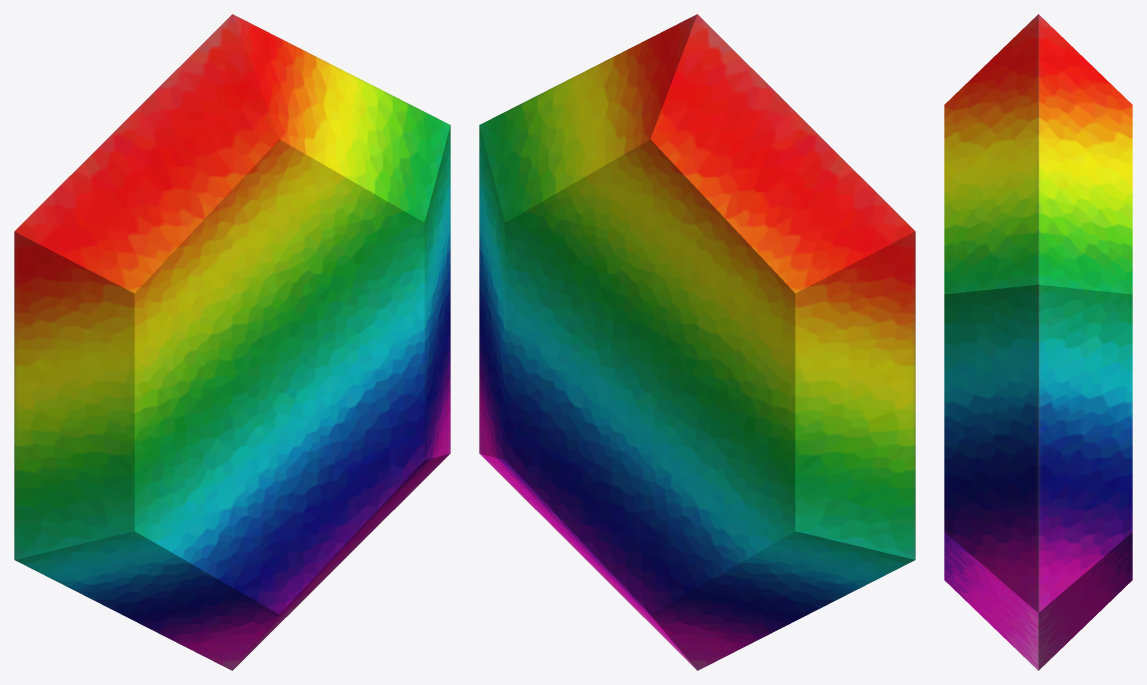
Rendered from crystal.fbx.
3 views of the same model, side by side, from view 1: azimuth 30°, elevation 25°; view 2: azimuth 150°, elevation 25°; view 3: azimuth 270°, elevation 25° (orthographic).
Visible parts, largest first — view 1: Crystal5, Crystal6, Crystal1, Crystal4, Crystal2, Crystal3; view 2: Crystal5, Crystal6, Crystal1, Crystal4, Crystal2, Crystal3; view 3: Crystal2, Crystal1, Crystal3.
Part boxes in pixels (x1=…): Crystal5: x1=14, y1=231, x2=278, y2=559; Crystal6: x1=14, y1=14, x2=279, y2=376; Crystal1: x1=232, y1=14, x2=450, y2=376; Crystal4: x1=15, y1=377, x2=279, y2=670; Crystal2: x1=280, y1=126, x2=450, y2=460; Crystal3: x1=233, y1=377, x2=449, y2=669; Crystal5: x1=651, y1=231, x2=915, y2=559; Crystal6: x1=650, y1=14, x2=915, y2=376; Crystal1: x1=479, y1=14, x2=697, y2=376; Crystal4: x1=650, y1=377, x2=914, y2=670; Crystal2: x1=479, y1=126, x2=649, y2=460; Crystal3: x1=480, y1=377, x2=696, y2=669; Crystal2: x1=944, y1=284, x2=1132, y2=612; Crystal1: x1=944, y1=14, x2=1132, y2=294; Crystal3: x1=944, y1=532, x2=1132, y2=670.
Bounding box in the file's own units: 82.98 × 119 × 31.
